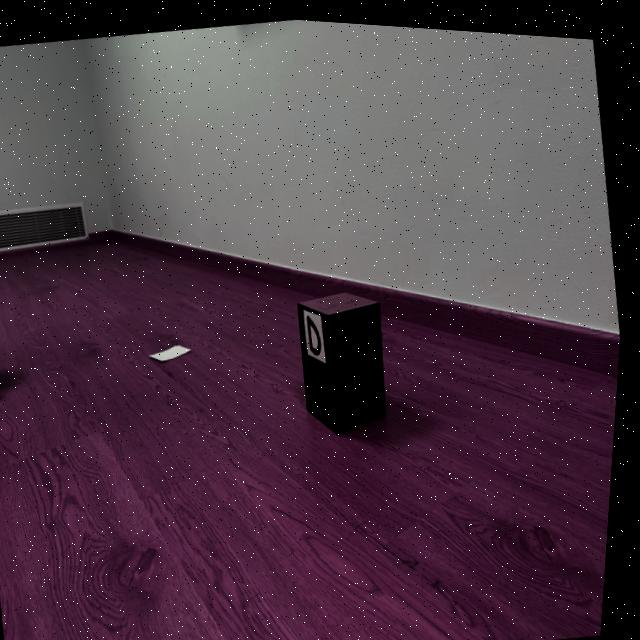D: (311, 311, 325, 351)
